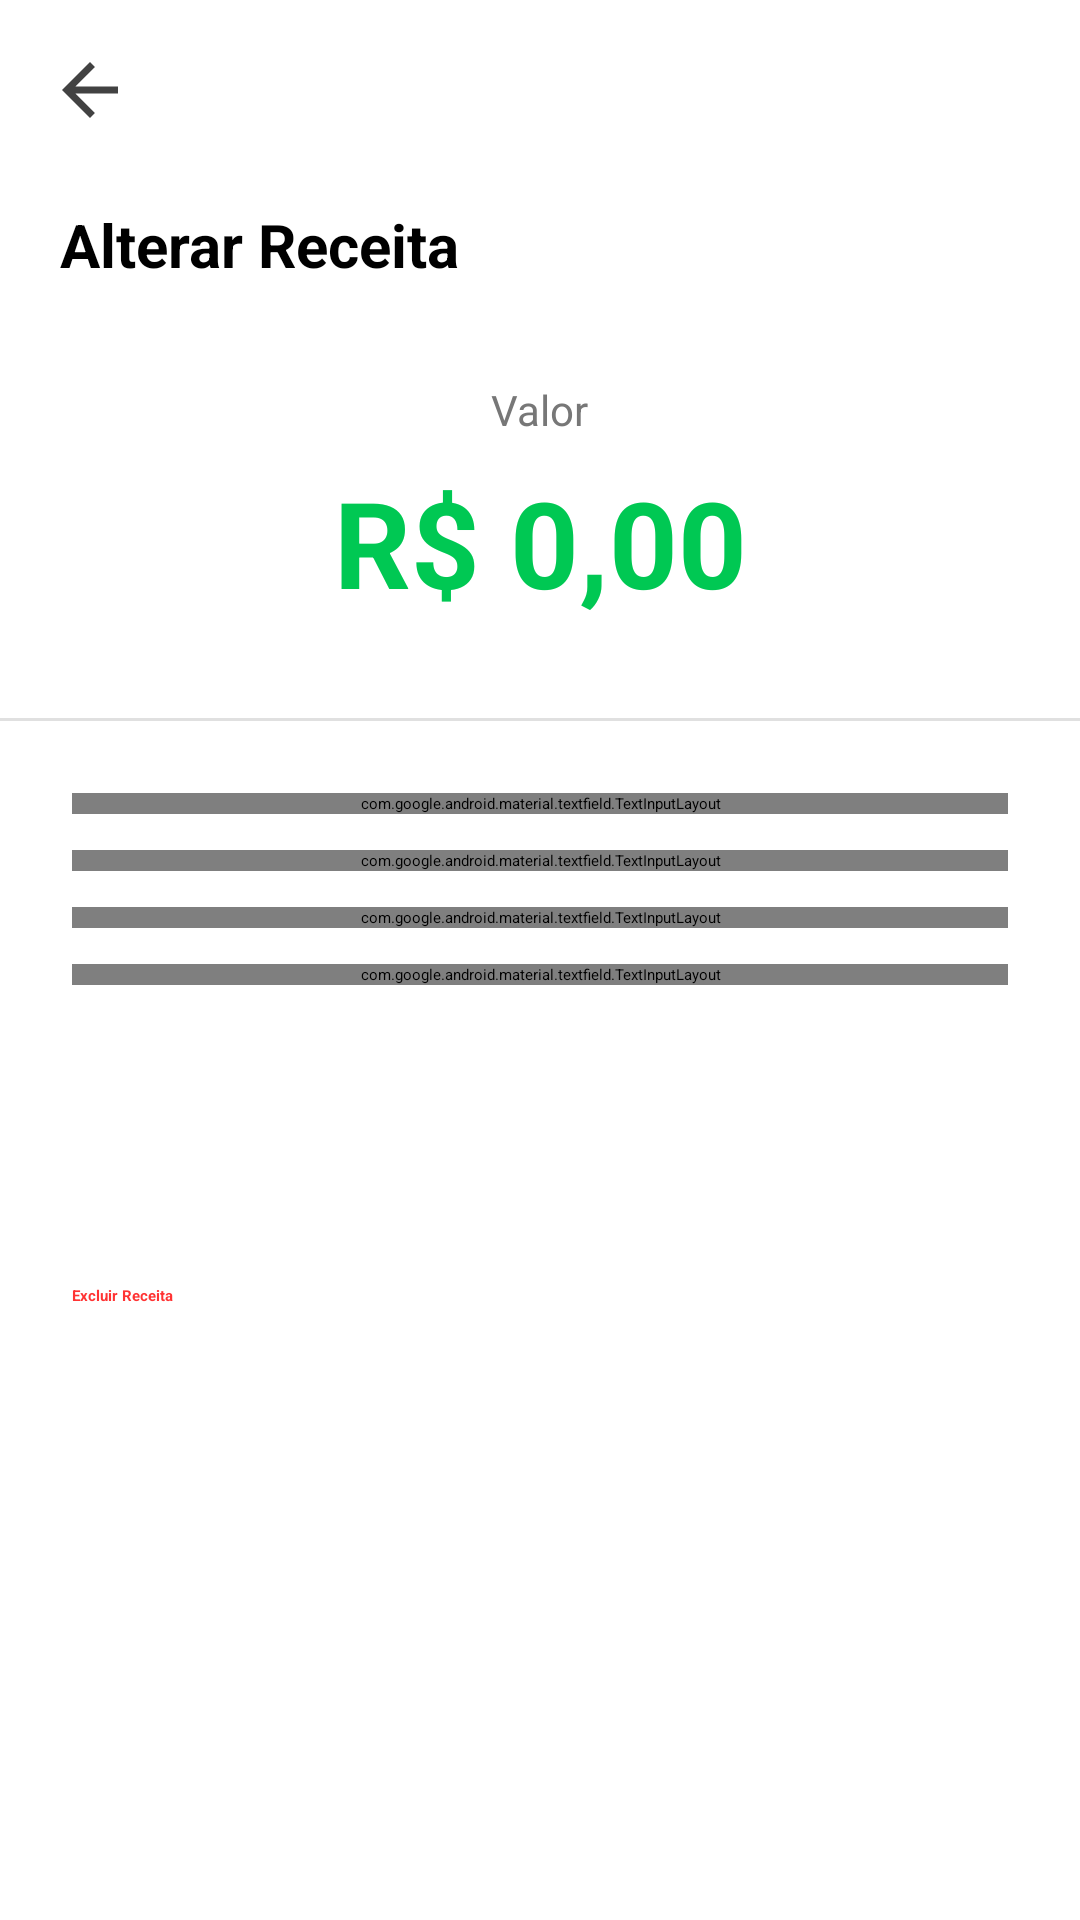

Where icons sit on this 1080 x 1920 app screen, as (x1, y1, x2, y2):
arrow back: (62, 62, 118, 118)
